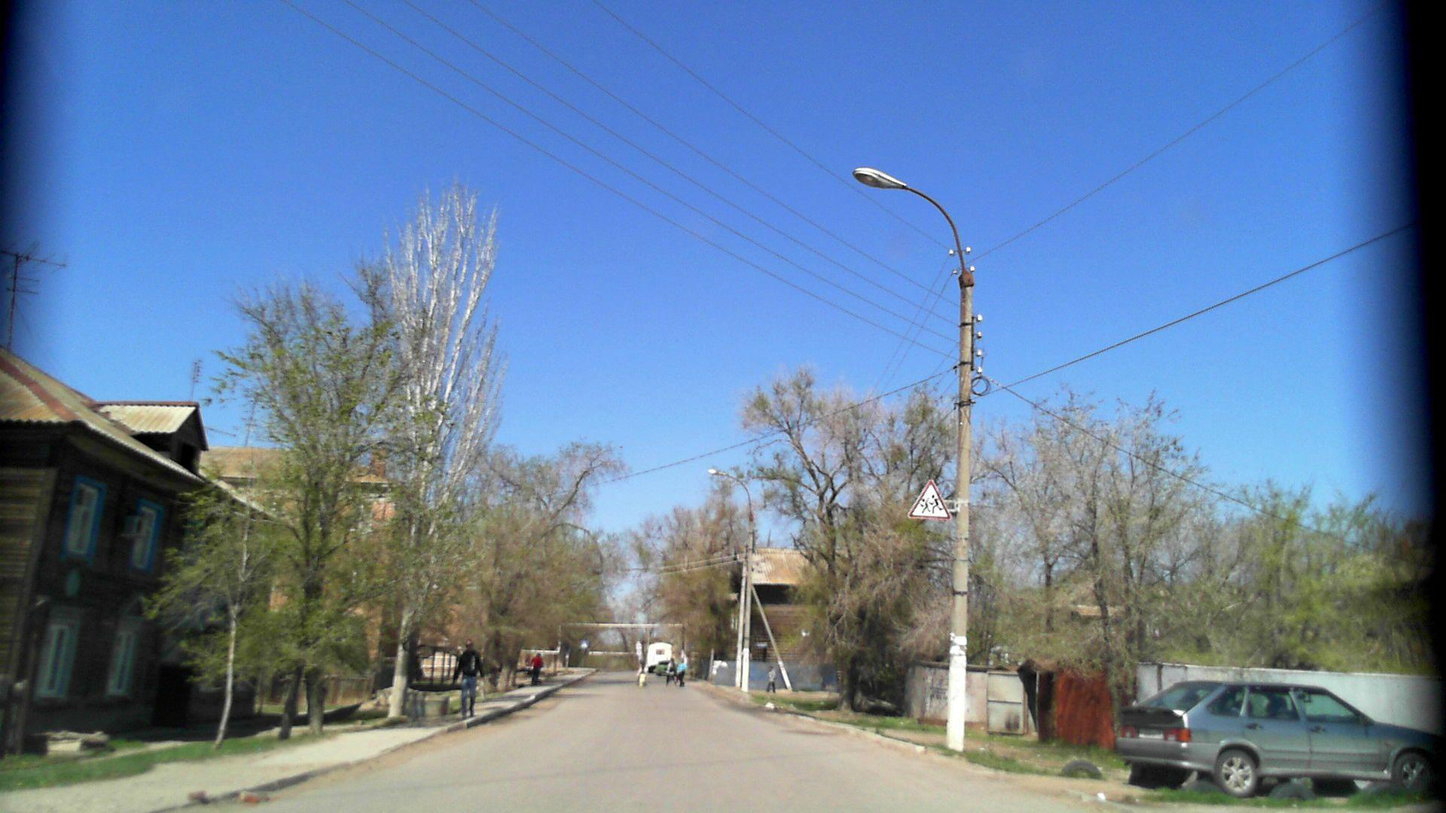road_sign: (904, 476, 955, 520)
